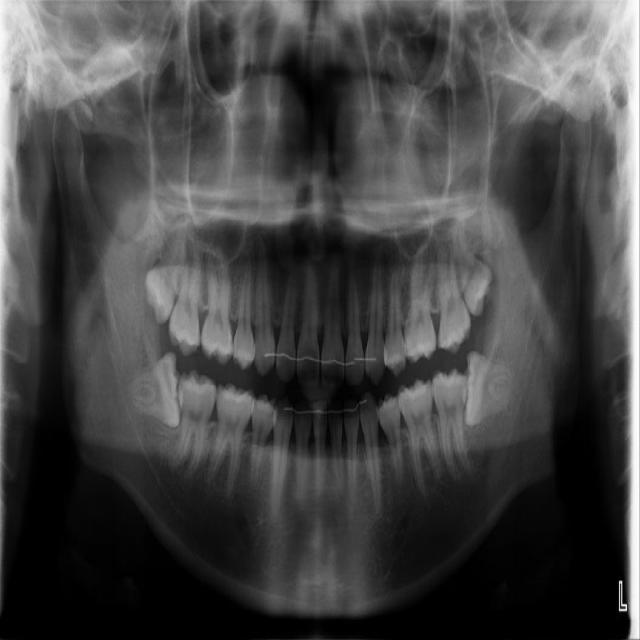3M ESPE Implant: (139, 218, 188, 327)
73: (616, 591, 620, 594)
BioHorizons Implant: (437, 236, 472, 355)
BioLife Implant: (449, 219, 500, 319)
Biomet 3i Implant: (462, 351, 514, 427)
Blue Sky Bio Implant: (430, 366, 474, 483)
Caries: (167, 221, 204, 358)
Implant: (165, 369, 220, 481)
Keystone Dental Implant: (129, 348, 189, 429)
